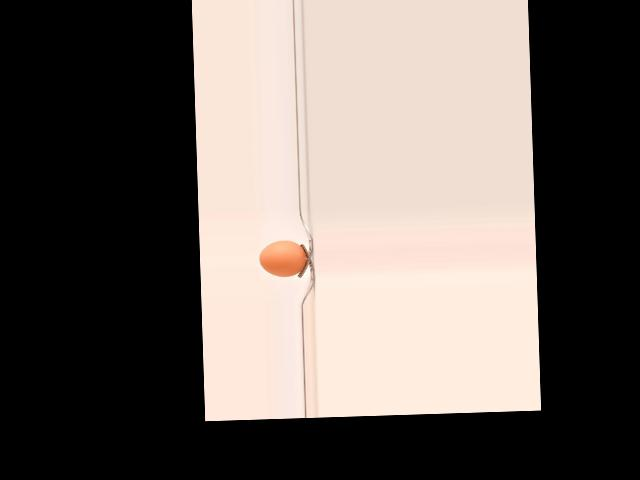egg: (259, 239, 306, 277)
